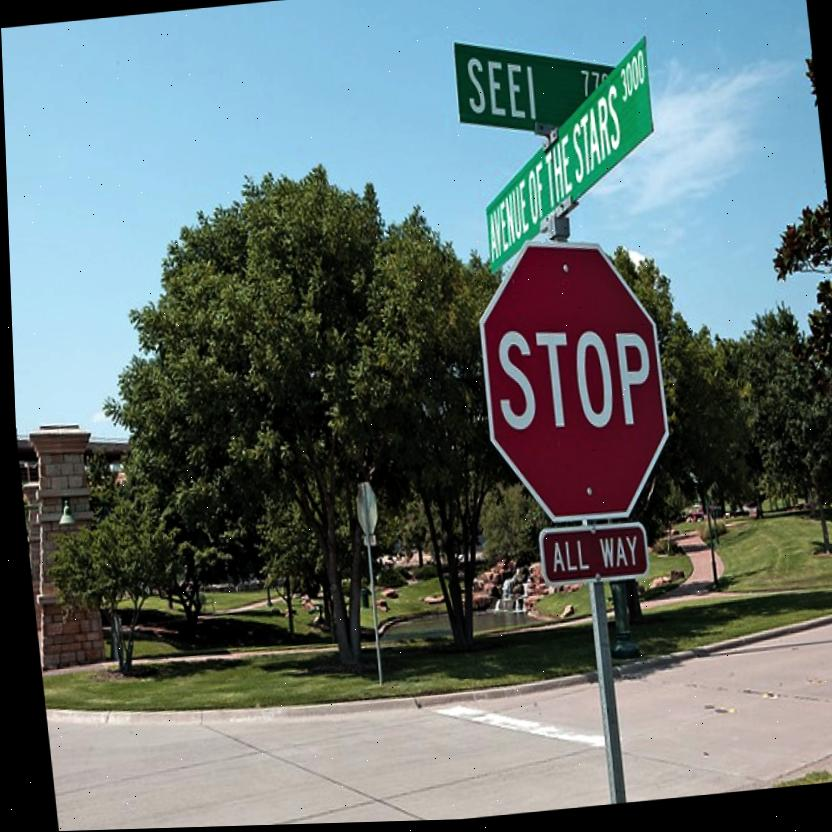Pole: (582, 585, 619, 802), (362, 553, 379, 689)
Sign: (469, 237, 674, 530), (348, 486, 377, 536)
